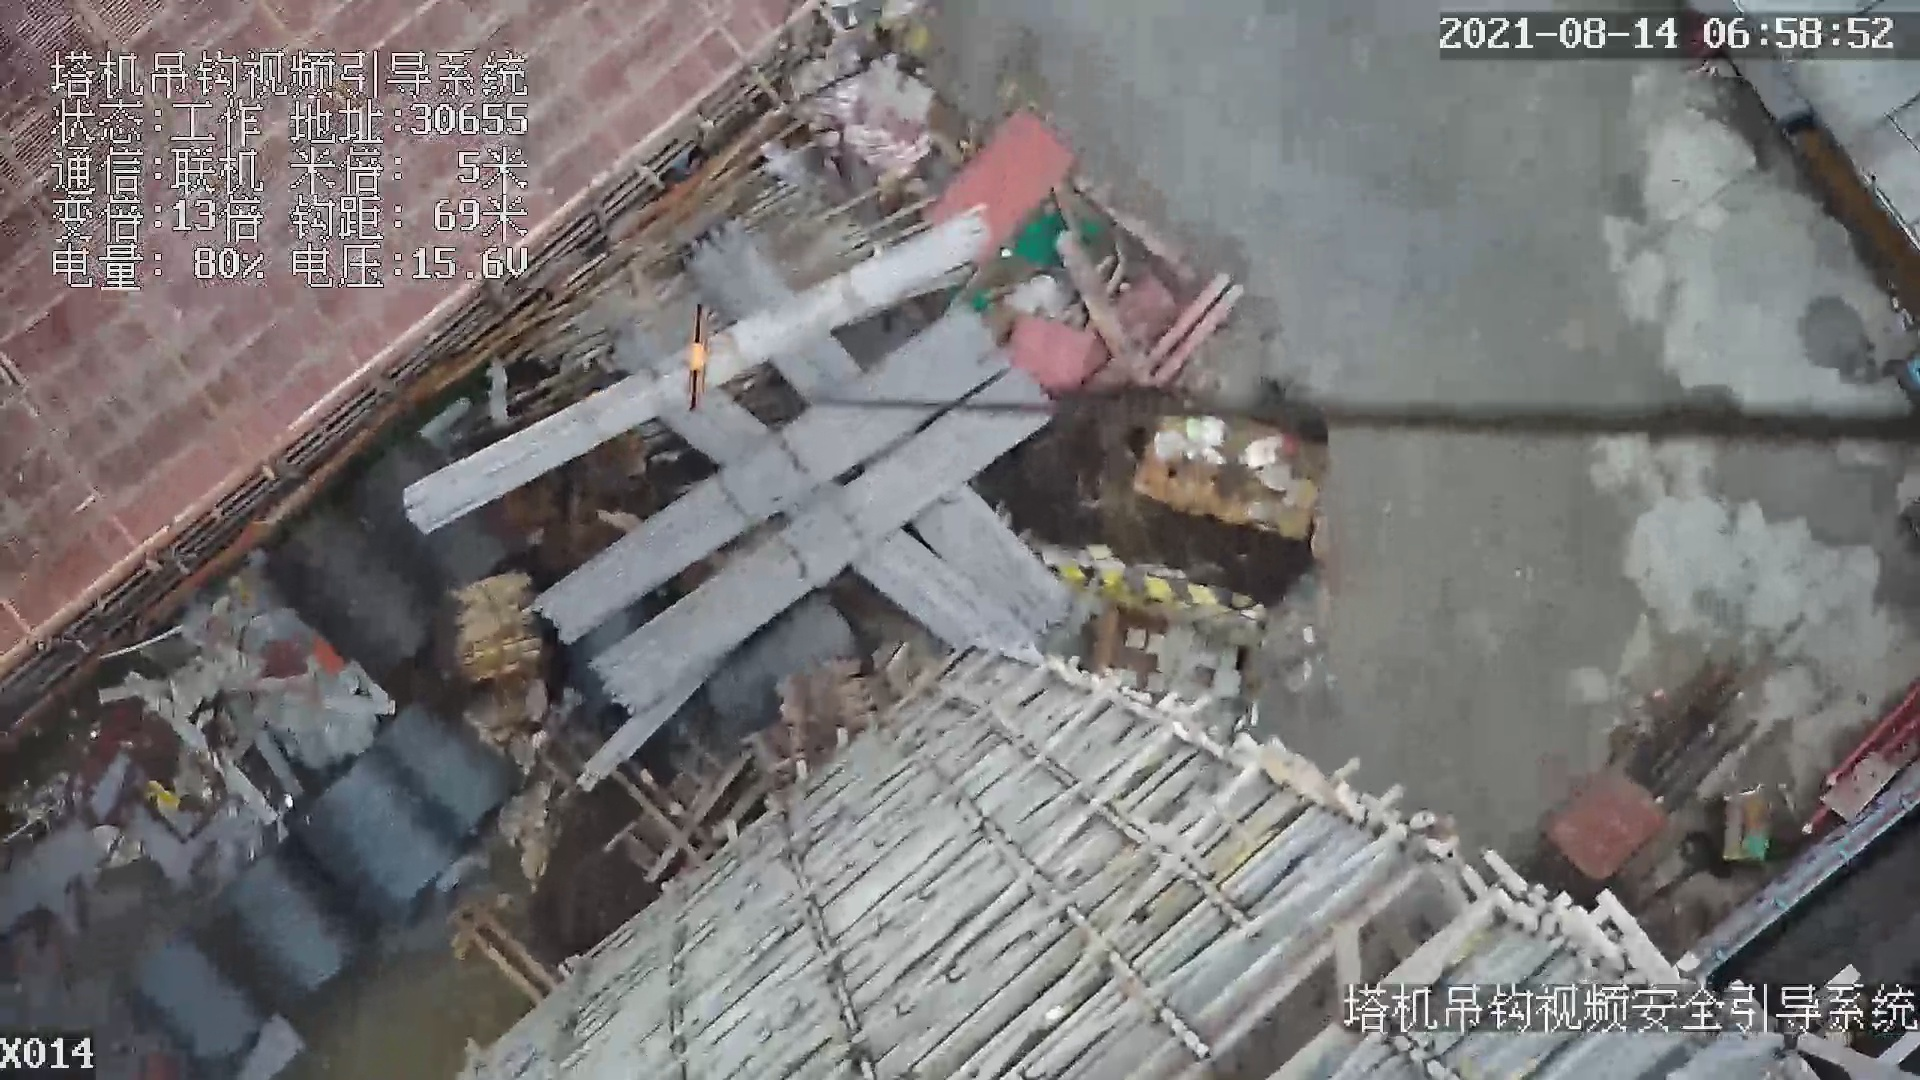hook: (679, 297, 713, 411)
rebar: (400, 206, 989, 534), (585, 369, 1062, 717), (531, 306, 1009, 653)
wood: (446, 568, 542, 684)
